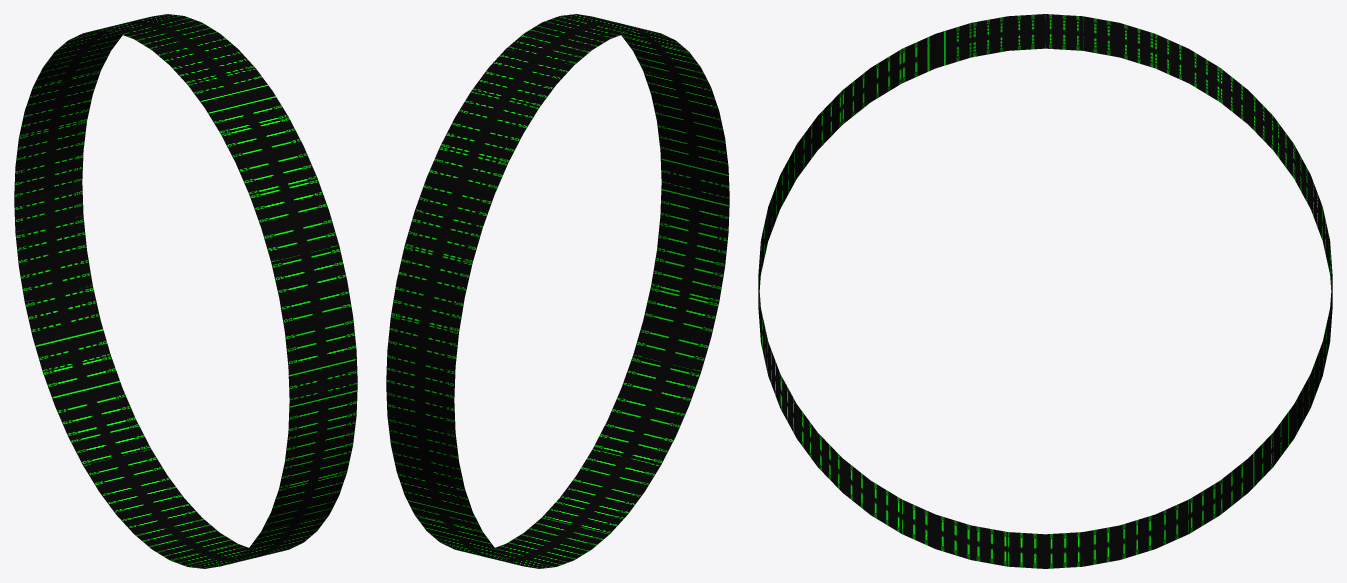
Rendered from ring (1).obj.
3 renders of one model, left to right at view 1: azimuth 30°, elevation 25°; view 2: azimuth 150°, elevation 25°; view 3: azimuth 270°, elevation 25°, orthographic. The views are drawn at different scales.
Parts seen in each view (by area): view 1: Torus; view 2: Torus; view 3: Torus.
Boxes of the visible parts, <box> form: Torus: <box>14,14,357,568</box>; Torus: <box>386,14,729,568</box>; Torus: <box>758,14,1332,568</box>.
Bounding box in the file's own units: 1.71 × 11.97 × 11.97.
